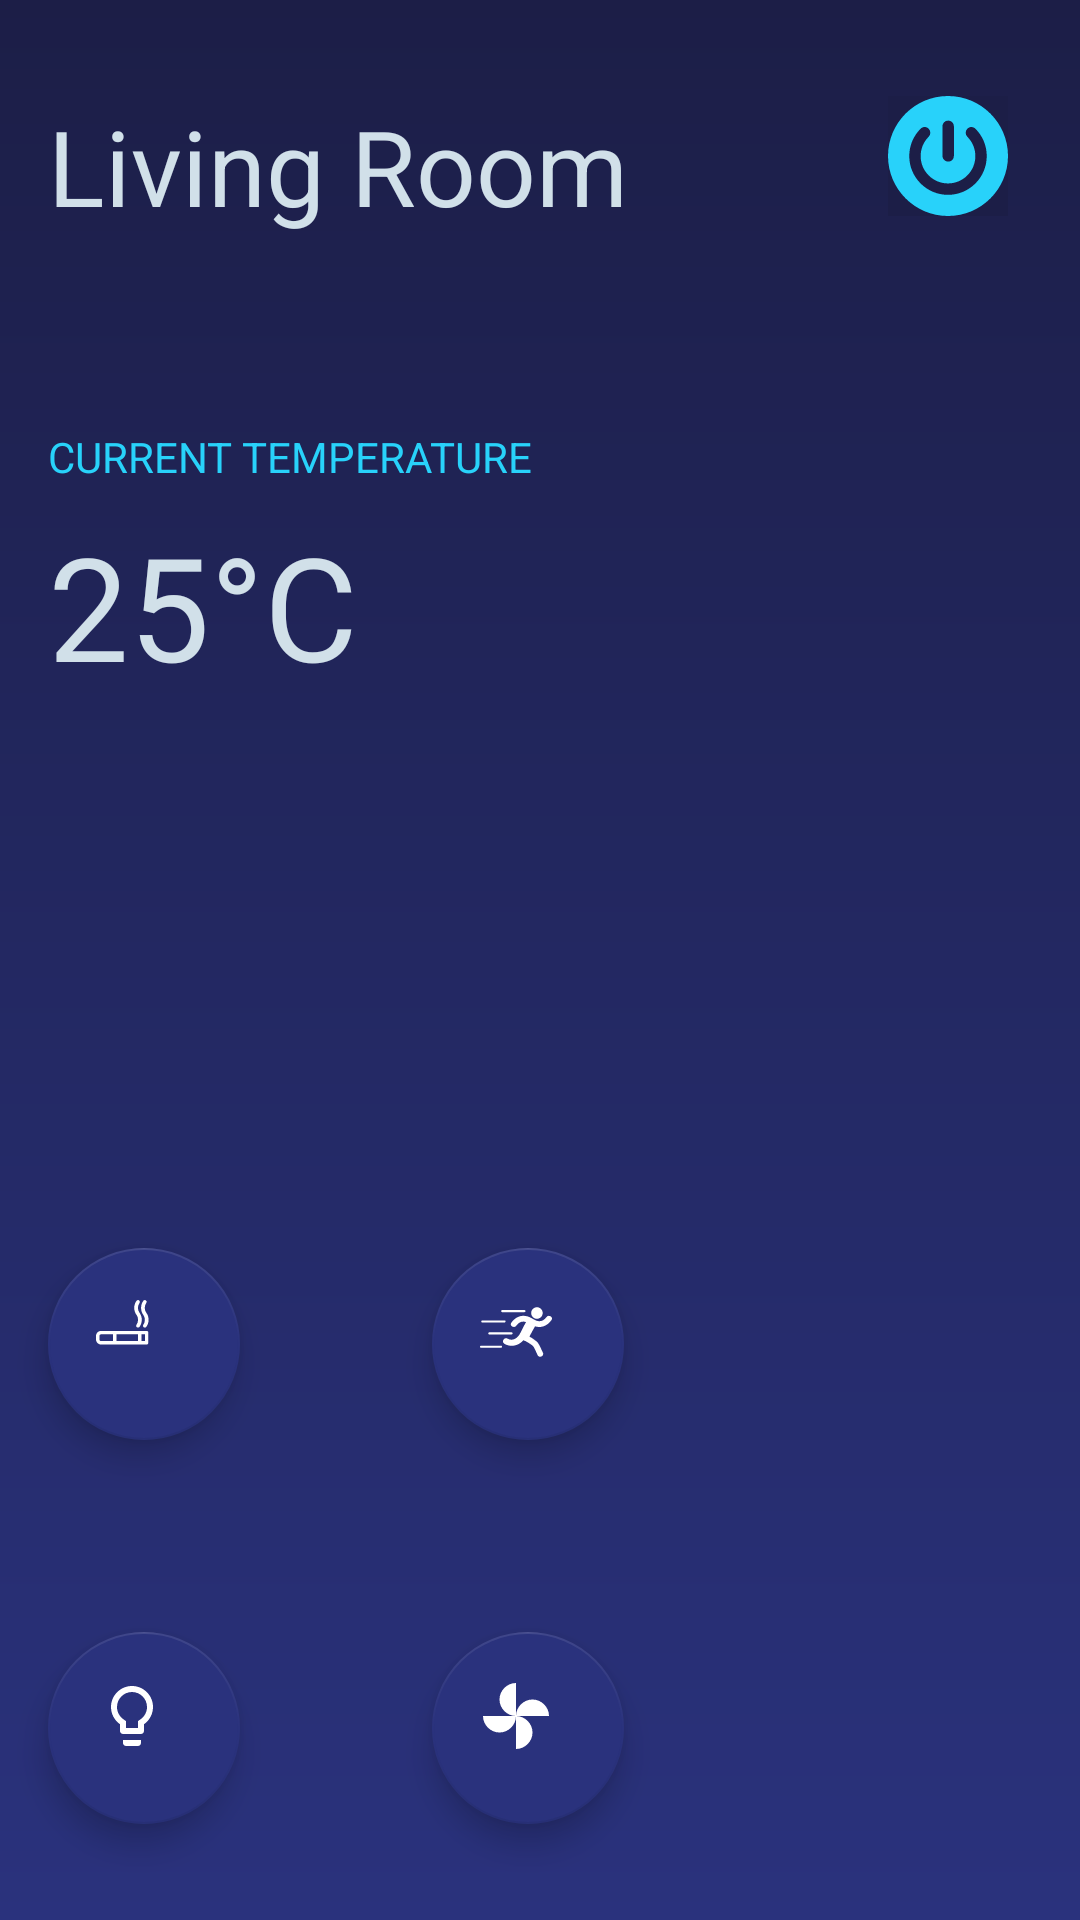

Point at icon controls on the screen. Image size 1080 x 1920, points as point (x, y).
motion: point (528, 1344)
power: point (948, 156)
smoking: point (144, 1344)
